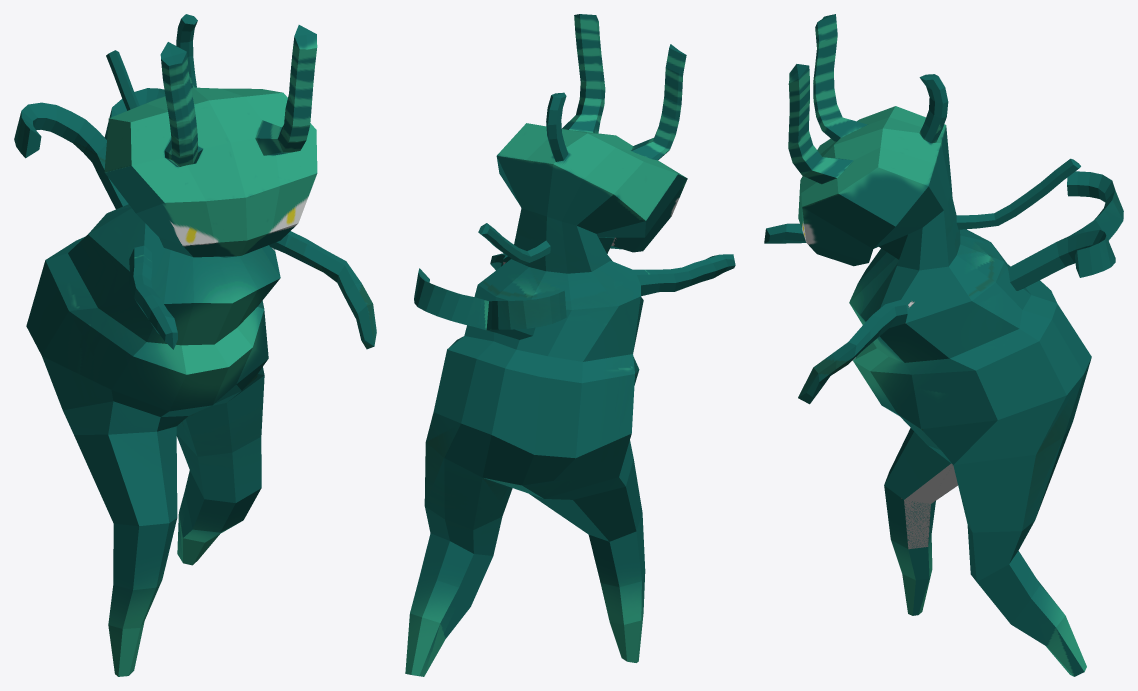
Rendered from monstruo1_caminar_92.obj.
3 renders of one model, left to right at view 1: azimuth 30°, elevation 25°; view 2: azimuth 150°, elevation 25°; view 3: azimuth 270°, elevation 25°, orthographic. The views are drawn at different scales.
Parts seen in each view (by area): view 1: Monstruo_basico; view 2: Monstruo_basico; view 3: Monstruo_basico.
Part boxes in pixels (bbox=[...]): Monstruo_basico: bbox=[14, 14, 376, 676]; Monstruo_basico: bbox=[405, 14, 735, 676]; Monstruo_basico: bbox=[764, 14, 1123, 676].
Size of the model in its own units: 0.3745 by 0.999 by 0.5427.
